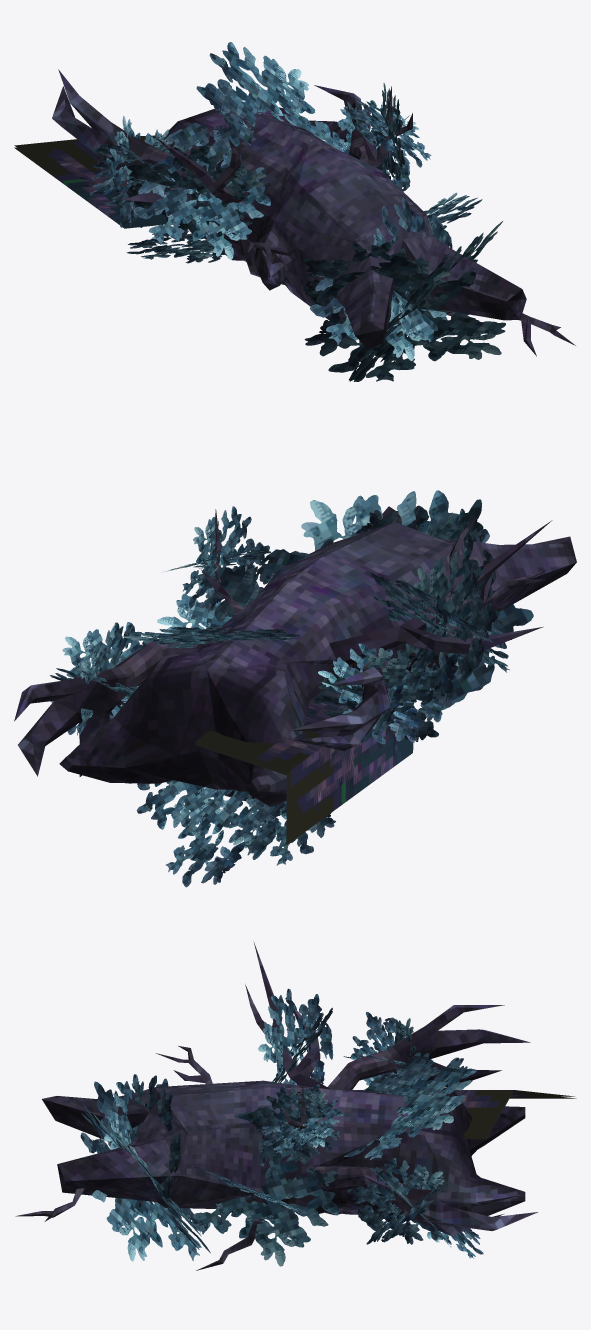
Rendered from foliage_shuren.obj.
The picture shows the model from 3 angles, top to bottom: view 1: azimuth 30°, elevation 25°; view 2: azimuth 150°, elevation 25°; view 3: azimuth 270°, elevation 25°; orthographic projection. The views are drawn at different scales.
Visible parts, largest first — view 1: Foliage_Shuren, Foliage_Shuren_1; view 2: Foliage_Shuren, Foliage_Shuren_1; view 3: Foliage_Shuren, Foliage_Shuren_1.
Boxes of the visible parts, x1,y1,x2,y2 form: Foliage_Shuren: (14,42,505,381); Foliage_Shuren_1: (331,213,575,356); Foliage_Shuren: (14,490,552,887); Foliage_Shuren_1: (382,506,576,611); Foliage_Shuren: (80,942,576,1270); Foliage_Shuren_1: (15,1087,186,1221).
Bounding box in the file's own units: 72.15 × 56.06 × 108.
3 materials, 3 textured.
